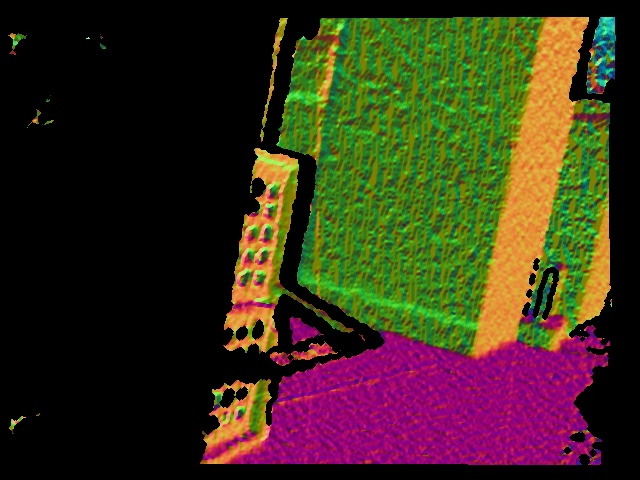station: (519, 258, 568, 351)
